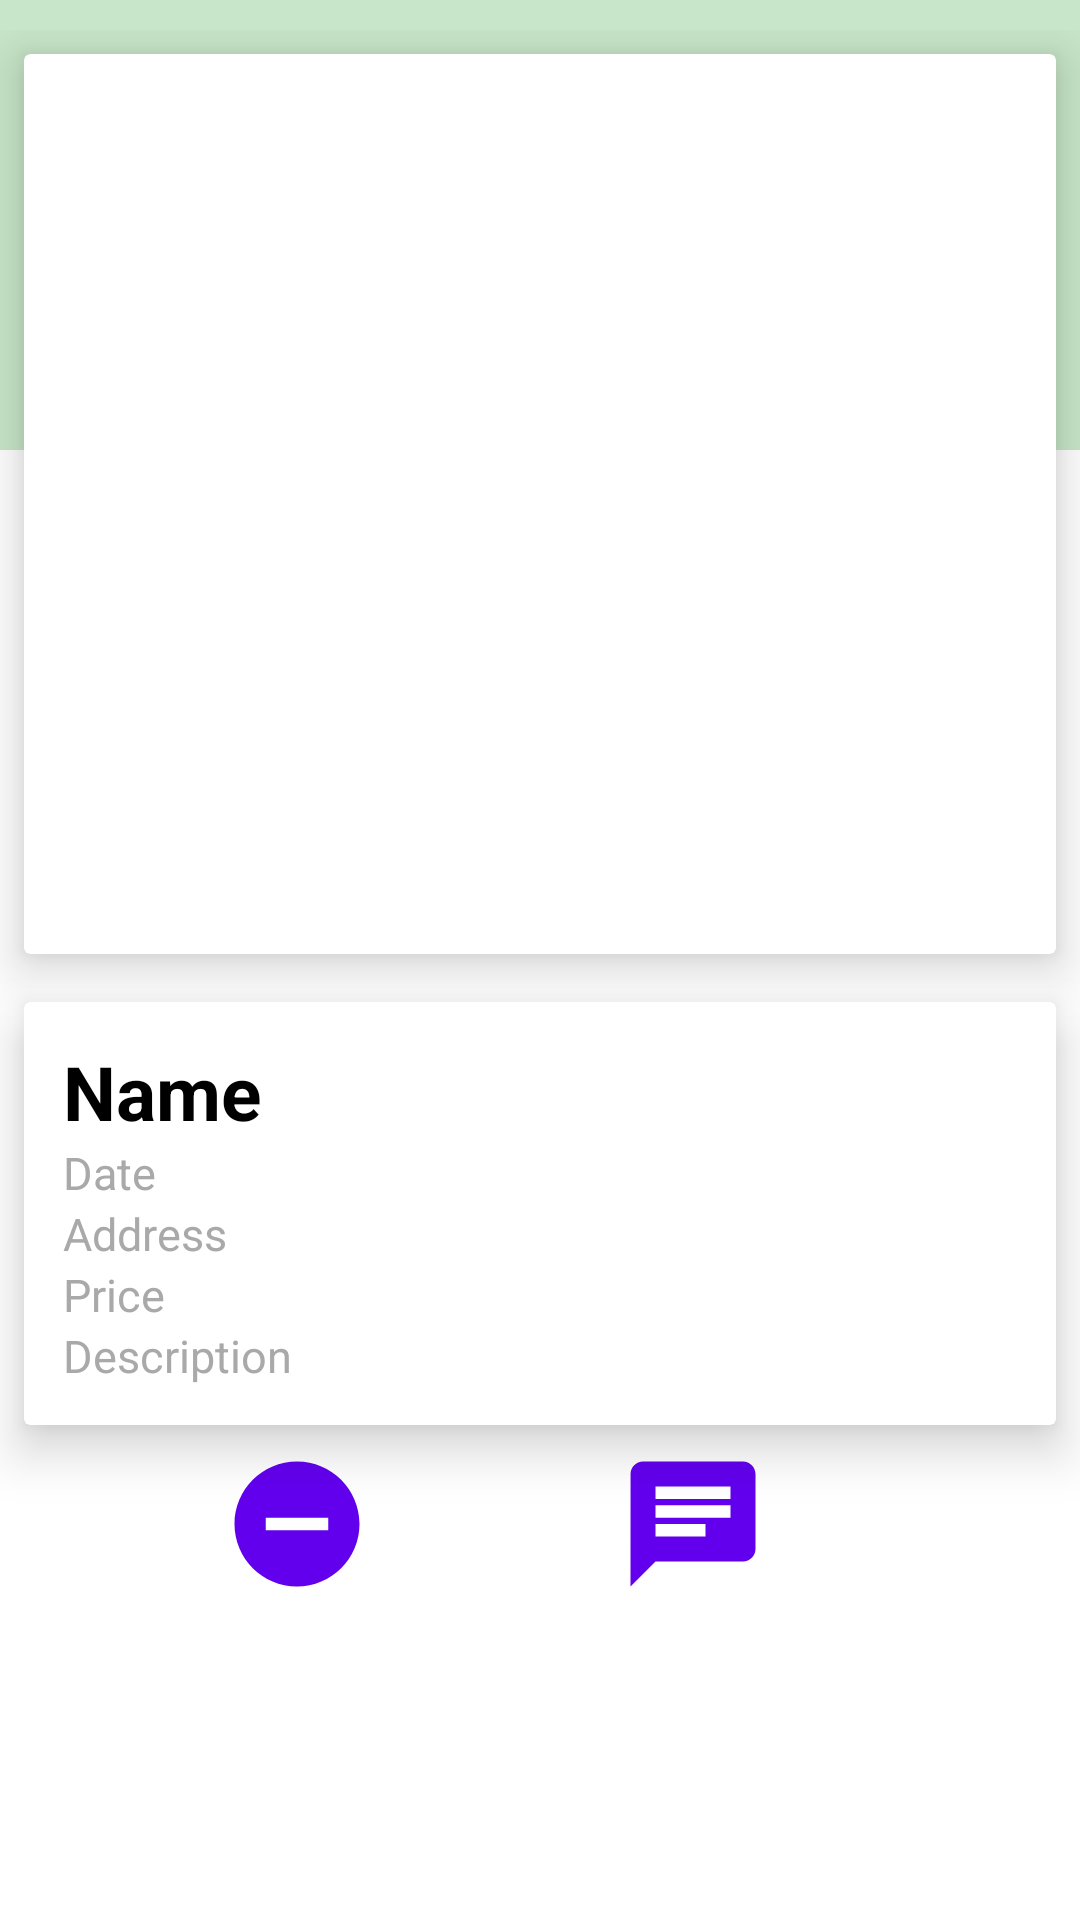

Locate icon controls on the screen. Image size 1080w x 1920h, boxes as (x1, y1, x2, y2).
chat: (630, 1461, 756, 1587)
leave party: (234, 1461, 360, 1587)
